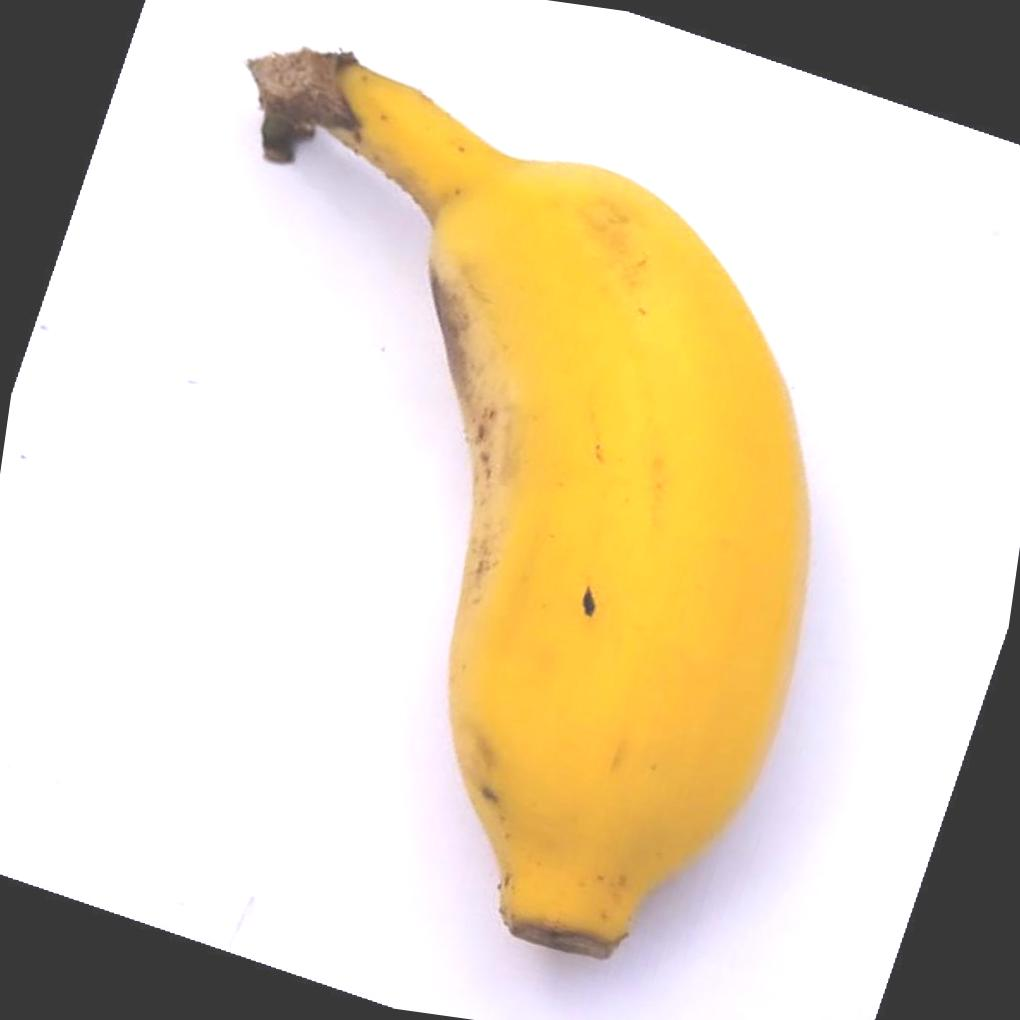Banana Ripe: (193, 44, 952, 1020)
